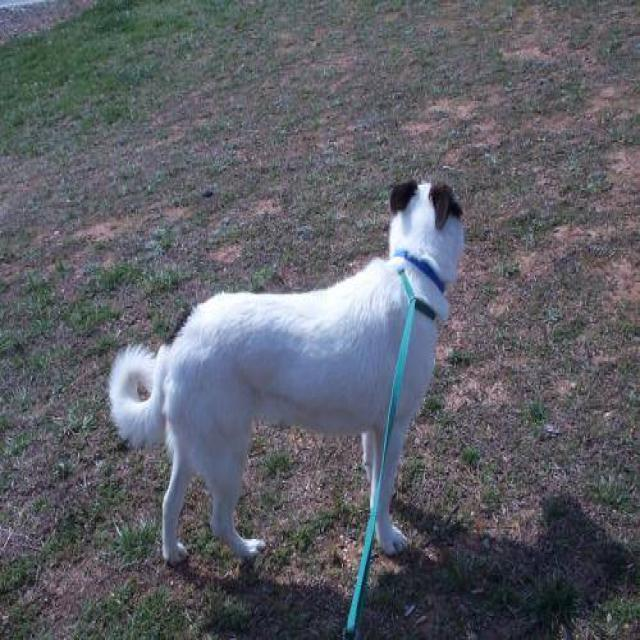adult_dog: (106, 176, 467, 568)
